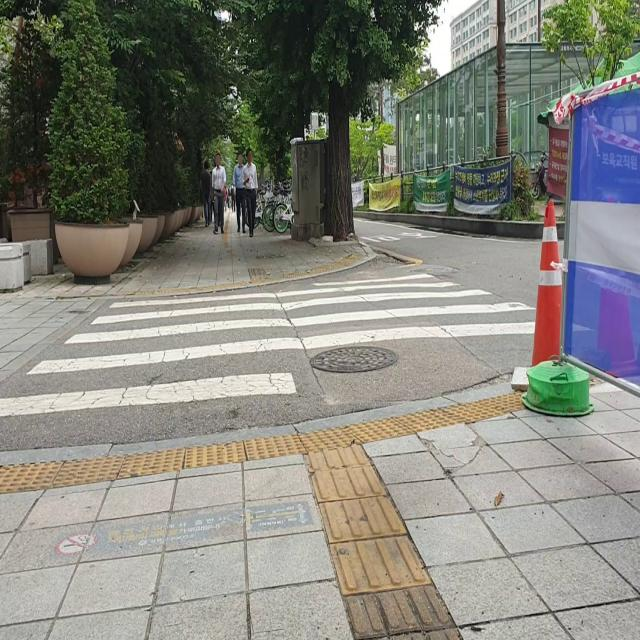횡단보도: (0, 270, 538, 423)
